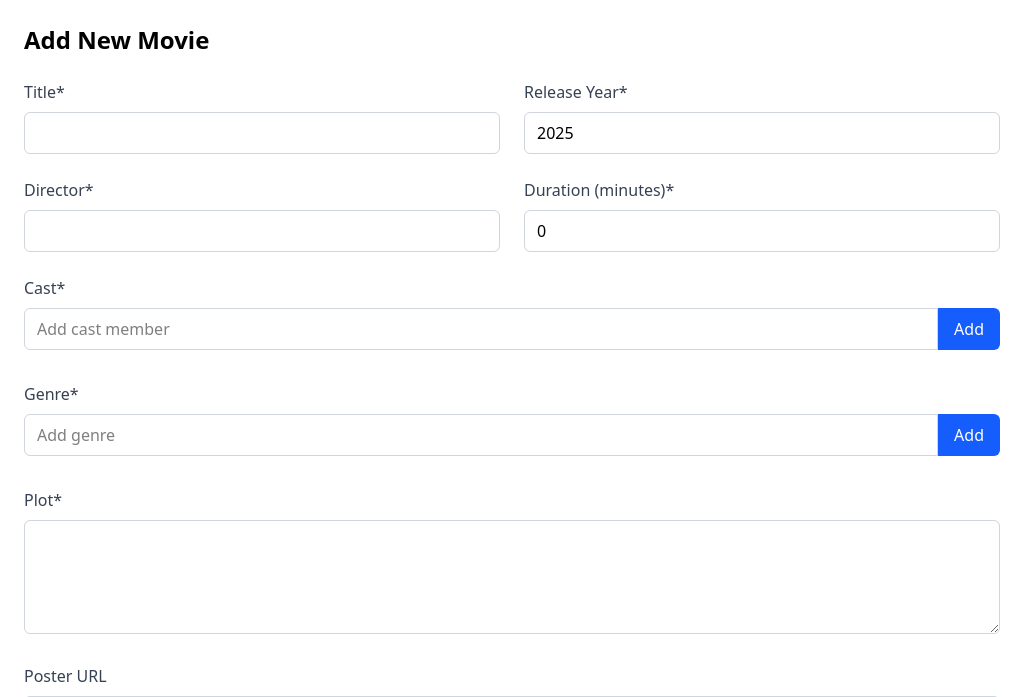
Test: MovieForm › adds and removes cast members
// Add a cast member
Type "New Actor" into the field with placeholder "Add cast member" at (481, 329), box [24,308,938,350]
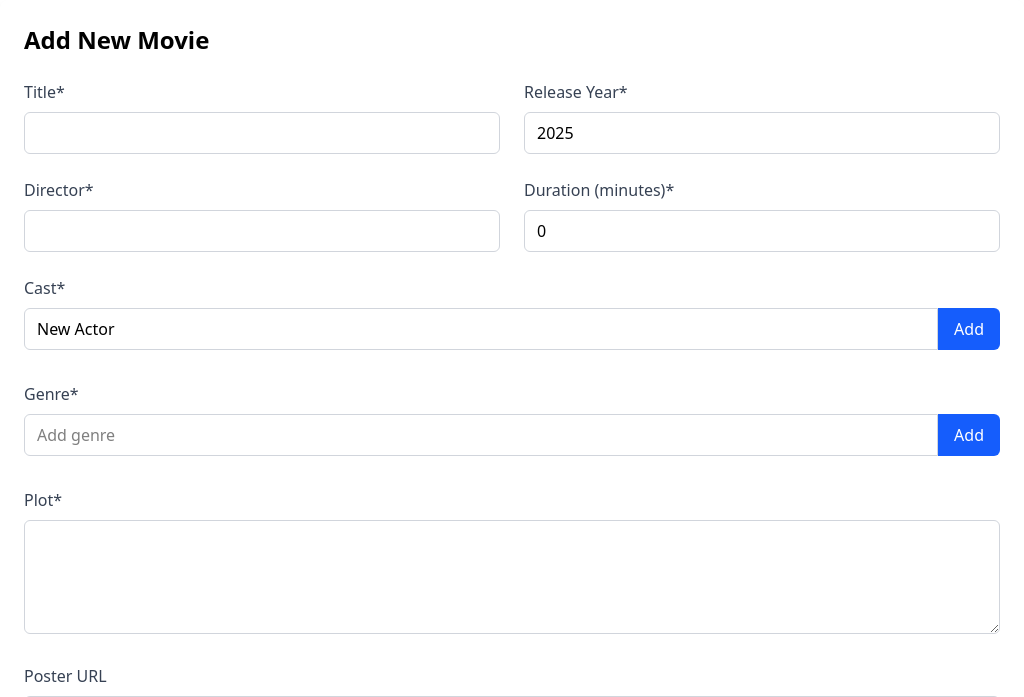
Click the 1st button "Add" at (969, 329), box [938,308,1000,350]
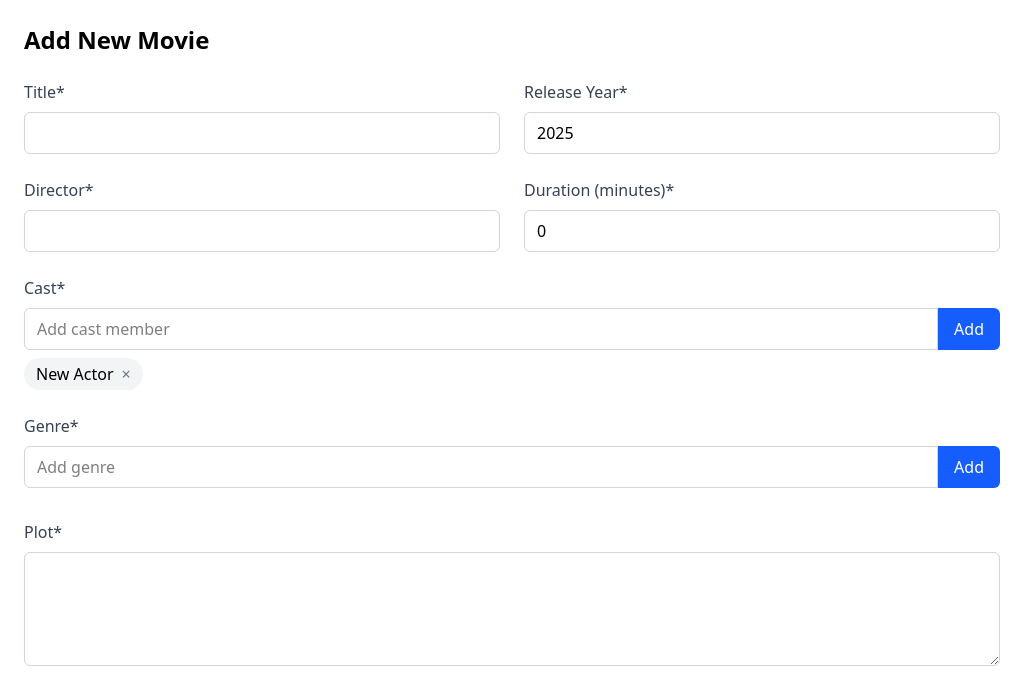
Expected: the text "New Actor" is shown, [36,362,114,386]
// Remove the cast member
Click the button "×" at (126, 374), box [122,362,131,386]
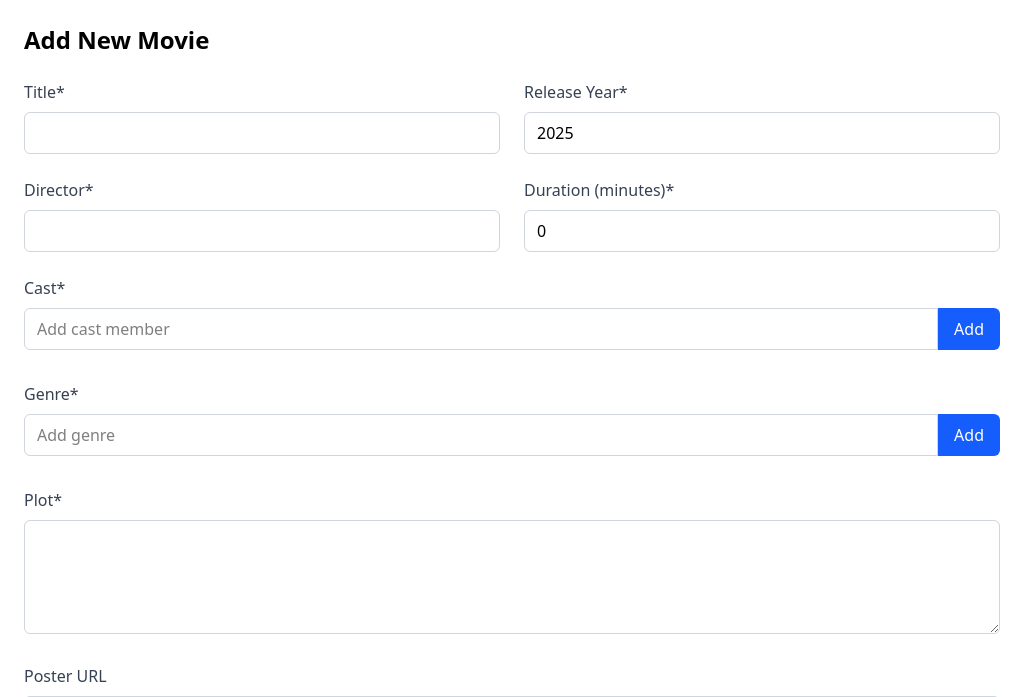
Expected: the text "New Actor" is gone
